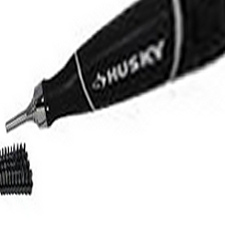screwdriver: (2, 1, 223, 131)
